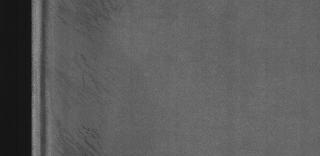water spot: (56, 3, 126, 152)
